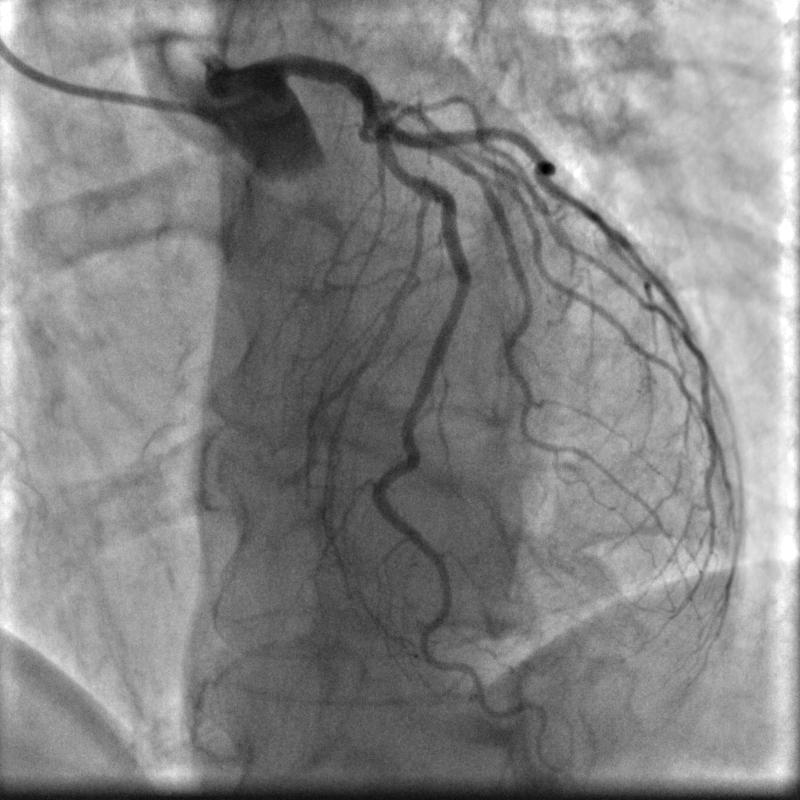Stenosis: (383, 157, 411, 182)
